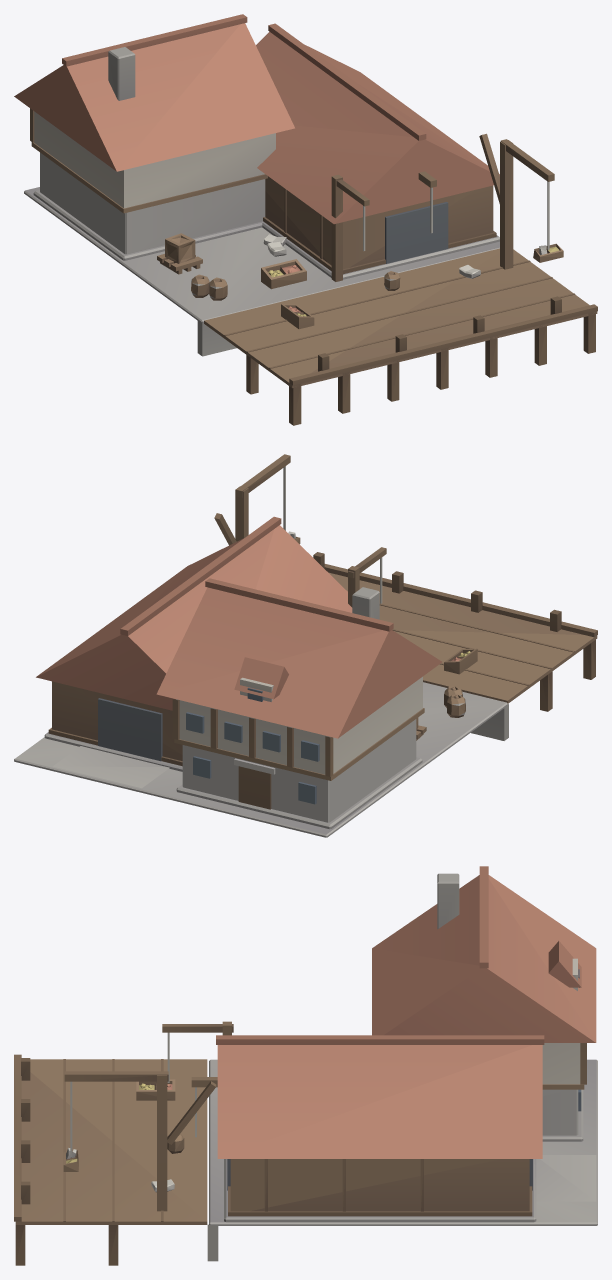
Rendered from trading_post.l3.glb.
The picture shows the model from 3 angles, top to bottom: view 1: azimuth 30°, elevation 25°; view 2: azimuth 150°, elevation 25°; view 3: azimuth 270°, elevation 25°; orthographic projection. The views are drawn at different scales.
Parts seen in each view (by area): view 1: trading_post; view 2: trading_post; view 3: trading_post.
Boxes of the visible parts, x1=… form: trading_post: x1=14, y1=14, x2=597, y2=425; trading_post: x1=14, y1=454, x2=597, y2=837; trading_post: x1=14, y1=866, x2=597, y2=1265.
Size of the model in its own units: 6.25 by 4.1 by 8.98.
